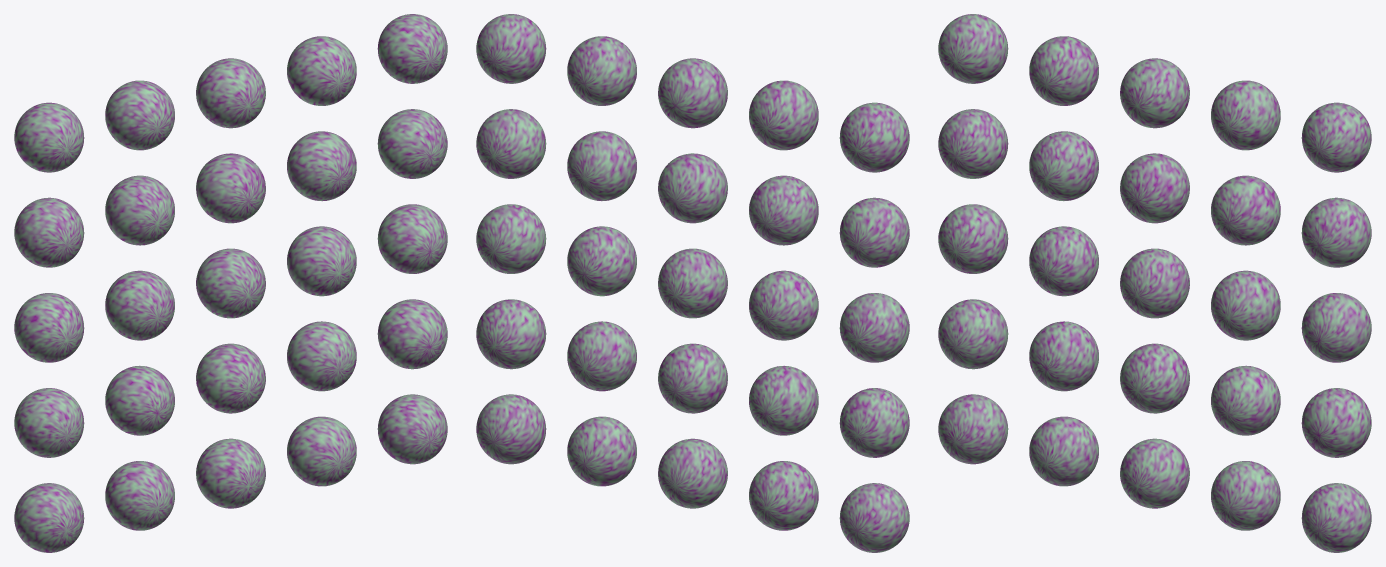
File: metallic_roughness_grid.glb
3 renders of one model, left to right at view 1: azimuth 30°, elevation 25°; view 2: azimuth 150°, elevation 25°; view 3: azimuth 330°, elevation 25°, orthographic.
Visible parts, largest first — view 1: sphere_4_0, sphere_0_4, sphere_2_1, sphere_2_3, sphere_3_1, sphere_1_3, sphere_3_0, sphere_4_1, sphere_1_2, sphere_2_2, sphere_3_2, sphere_0_3 (+13 smaller); view 2: sphere_4_0, sphere_0_4, sphere_2_1, sphere_2_3, sphere_3_1, sphere_1_3, sphere_3_0, sphere_4_1, sphere_1_2, sphere_2_2, sphere_3_2, sphere_0_3 (+13 smaller); view 3: sphere_0_0, sphere_4_4, sphere_2_1, sphere_2_3, sphere_1_1, sphere_3_3, sphere_1_0, sphere_0_1, sphere_1_2, sphere_2_2, sphere_3_2, sphere_4_3 (+13 smaller).
Part boxes in pixels (x1=…): sphere_4_0: x1=377, y1=394, x2=447, y2=464; sphere_0_4: x1=14, y1=102, x2=84, y2=172; sphere_2_1: x1=196, y1=343, x2=265, y2=413; sphere_2_3: x1=196, y1=153, x2=265, y2=223; sphere_3_1: x1=287, y1=321, x2=356, y2=391; sphere_1_3: x1=105, y1=175, x2=174, y2=245; sphere_3_0: x1=287, y1=416, x2=356, y2=486; sphere_4_1: x1=377, y1=299, x2=447, y2=369; sphere_1_2: x1=105, y1=270, x2=174, y2=340; sphere_2_2: x1=196, y1=248, x2=265, y2=318; sphere_3_2: x1=287, y1=226, x2=356, y2=296; sphere_0_3: x1=14, y1=197, x2=84, y2=267; sphere_4_0: x1=476, y1=394, x2=546, y2=464; sphere_0_4: x1=839, y1=102, x2=909, y2=172; sphere_2_1: x1=658, y1=343, x2=727, y2=413; sphere_2_3: x1=658, y1=153, x2=727, y2=223; sphere_3_1: x1=567, y1=321, x2=636, y2=391; sphere_1_3: x1=749, y1=175, x2=818, y2=245; sphere_3_0: x1=567, y1=416, x2=636, y2=486; sphere_4_1: x1=476, y1=299, x2=546, y2=369; sphere_1_2: x1=749, y1=270, x2=818, y2=340; sphere_2_2: x1=658, y1=248, x2=727, y2=318; sphere_3_2: x1=567, y1=226, x2=636, y2=296; sphere_0_3: x1=839, y1=197, x2=909, y2=267; sphere_0_0: x1=938, y1=394, x2=1008, y2=464; sphere_4_4: x1=1301, y1=102, x2=1371, y2=172; sphere_2_1: x1=1120, y1=343, x2=1189, y2=413; sphere_2_3: x1=1120, y1=153, x2=1189, y2=223; sphere_1_1: x1=1029, y1=321, x2=1098, y2=391; sphere_3_3: x1=1211, y1=175, x2=1280, y2=245; sphere_1_0: x1=1029, y1=416, x2=1098, y2=486; sphere_0_1: x1=938, y1=299, x2=1008, y2=369; sphere_1_2: x1=1029, y1=226, x2=1098, y2=296; sphere_2_2: x1=1120, y1=248, x2=1189, y2=318; sphere_3_2: x1=1211, y1=270, x2=1280, y2=340; sphere_4_3: x1=1301, y1=197, x2=1371, y2=267.
Size of the model in its own units: 1.4 by 1.4 by 0.2.
